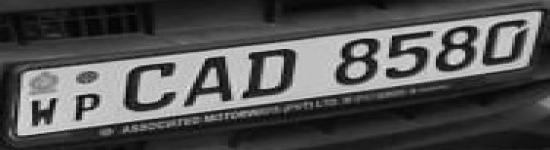0: (481, 16, 533, 67)
5: (379, 31, 436, 80)
8: (331, 36, 384, 87), (436, 23, 482, 74)
A: (183, 53, 238, 110)
C: (120, 61, 179, 113)
D: (238, 49, 304, 100)
P: (70, 93, 112, 124)
W: (27, 95, 66, 129)
